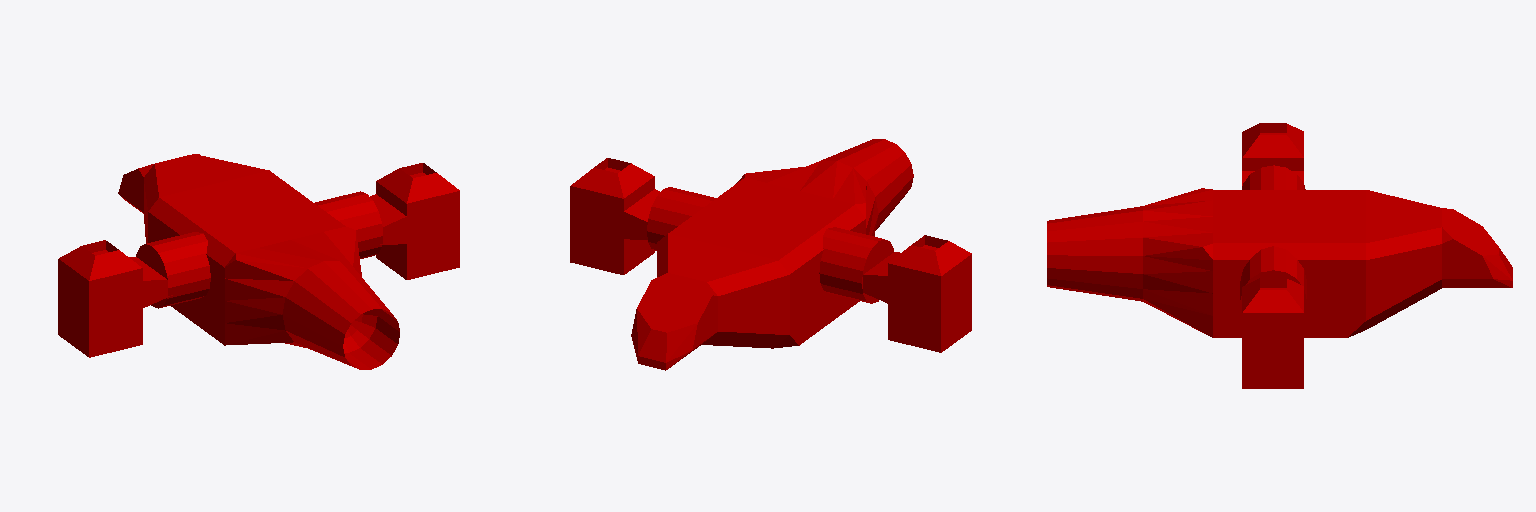
Rendered from RedPlanetProto4.obj.
3 views of the same model, side by side, from view 1: azimuth 30°, elevation 25°; view 2: azimuth 150°, elevation 25°; view 3: azimuth 270°, elevation 25° (orthographic).
Visible parts, largest first — view 1: Body1_Cube1_copy3_default; view 2: Body1_Cube1_copy3_default; view 3: Body1_Cube1_copy3_default.
Boxes of the visible parts, x1,y1,x2,y2 form: Body1_Cube1_copy3_default: [58, 154, 459, 369]; Body1_Cube1_copy3_default: [570, 139, 971, 370]; Body1_Cube1_copy3_default: [1047, 123, 1512, 388].
Size of the model in its own units: 5.6 by 1.42 by 6.09.